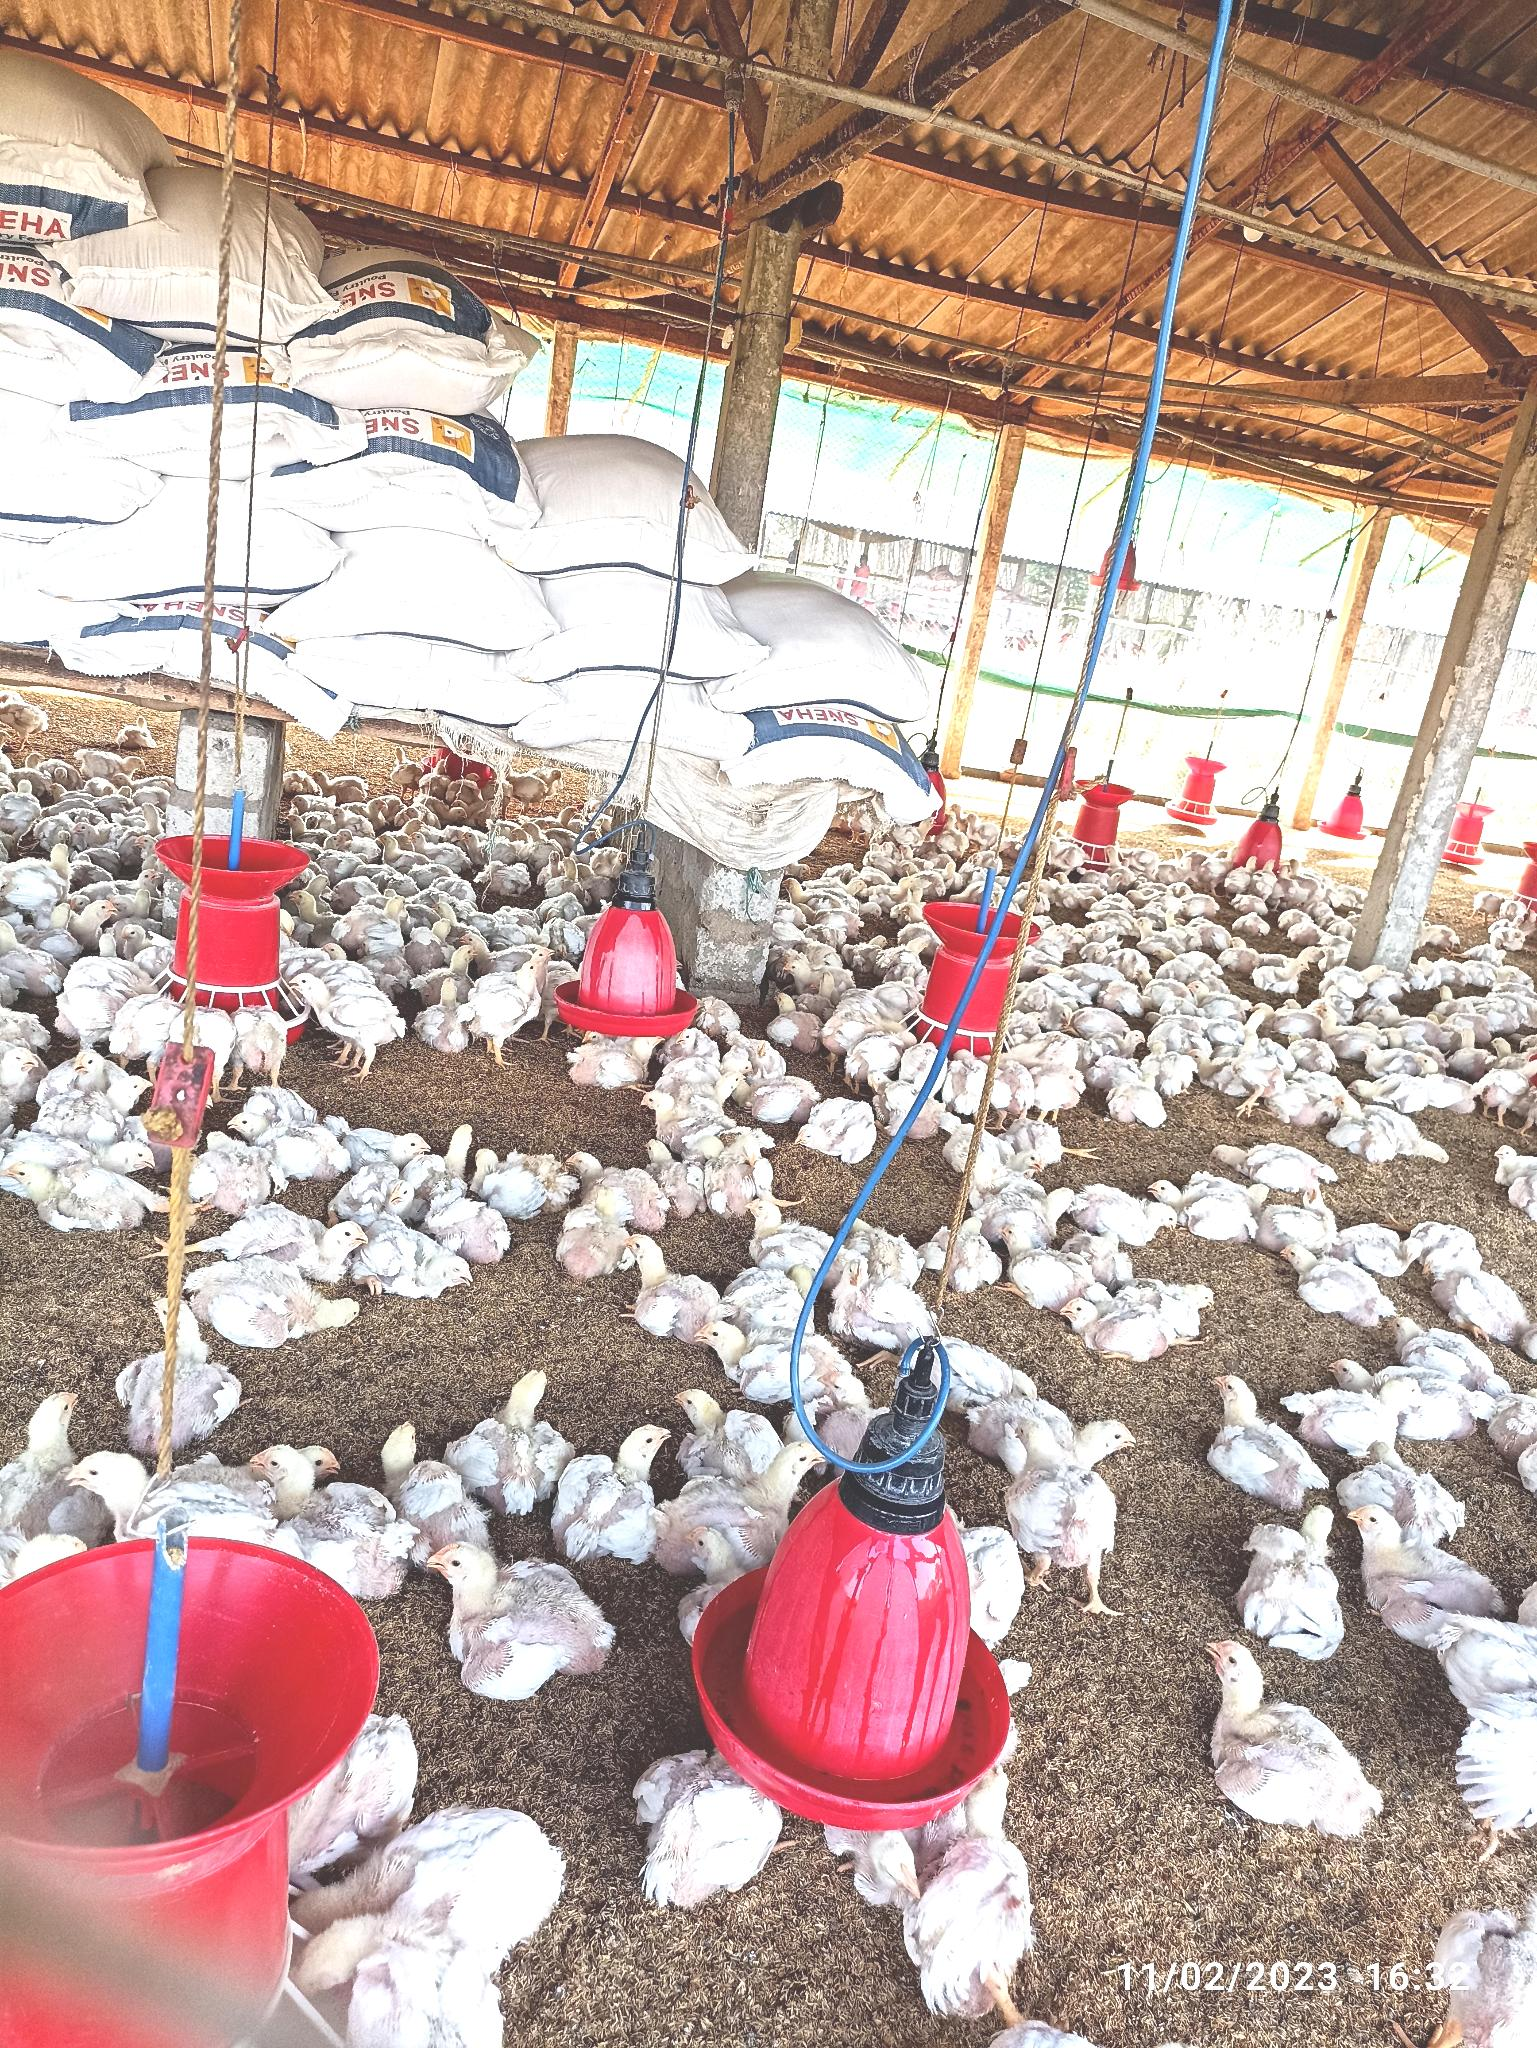Pollos: (1204, 1638, 1387, 1840), (428, 1541, 614, 1680), (1020, 1407, 1137, 1599), (250, 1448, 410, 1574), (1350, 1507, 1506, 1635), (685, 1440, 822, 1562), (568, 1419, 681, 1549), (1208, 1372, 1319, 1494), (694, 1309, 841, 1399), (471, 1364, 568, 1494), (216, 1206, 379, 1280), (1245, 1503, 1335, 1635), (5, 1160, 171, 1230), (463, 944, 559, 1054), (292, 970, 402, 1052), (231, 1109, 350, 1181), (617, 1230, 714, 1319), (1313, 1377, 1419, 1448), (567, 1149, 673, 1218), (1053, 1298, 1175, 1357), (1282, 1251, 1385, 1319), (428, 1186, 505, 1267), (743, 1199, 827, 1273), (1212, 1143, 1343, 1186), (802, 1096, 877, 1168), (1075, 1186, 1171, 1239)
